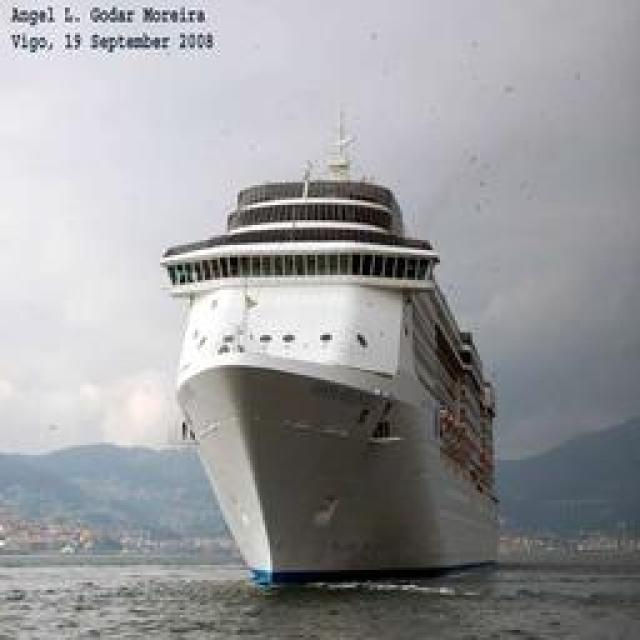CIV_Ship: (168, 158, 506, 582)
